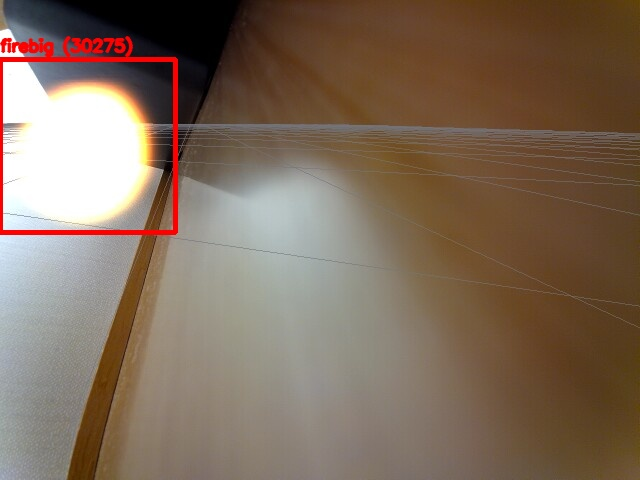firebig: (0, 59, 175, 232)
